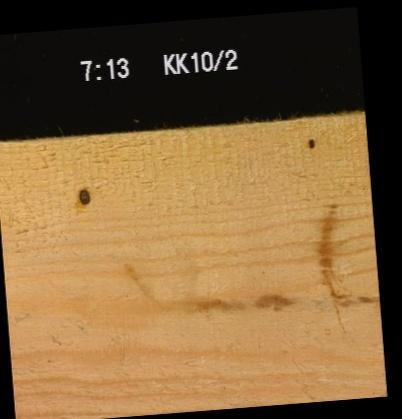dry_knot: (76, 186, 90, 204), (305, 136, 314, 148)
